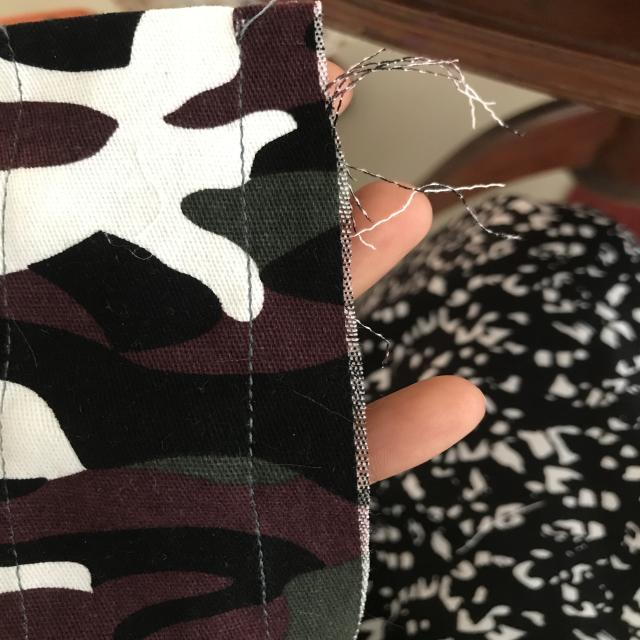good: (233, 342, 277, 442)
